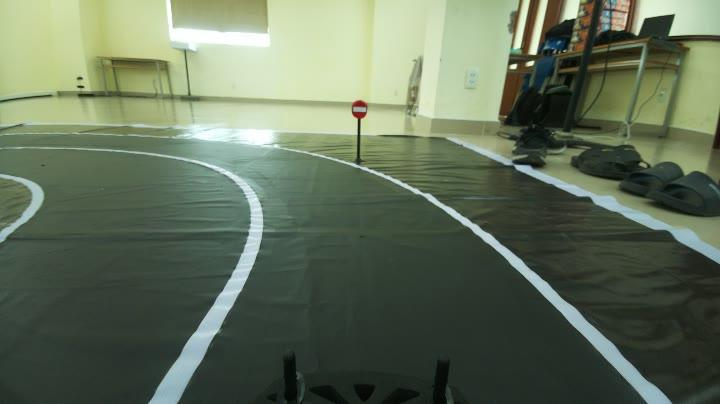no_entry: (346, 96, 373, 119)
